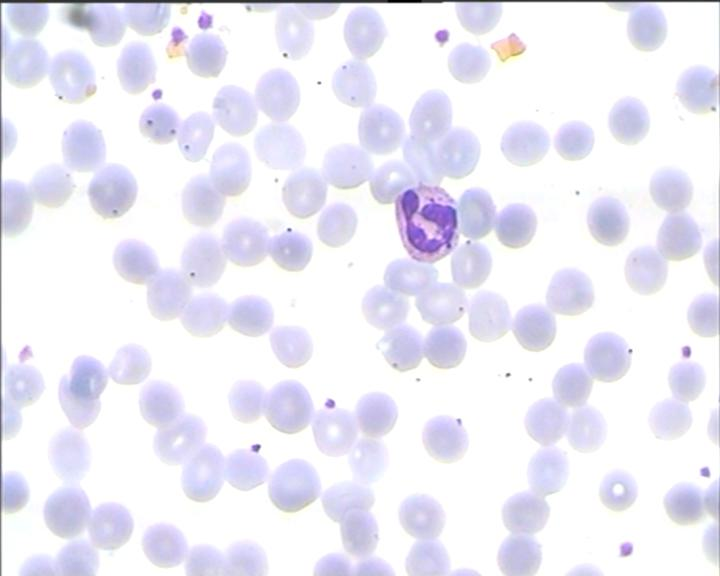neut: (391, 181, 464, 264)
